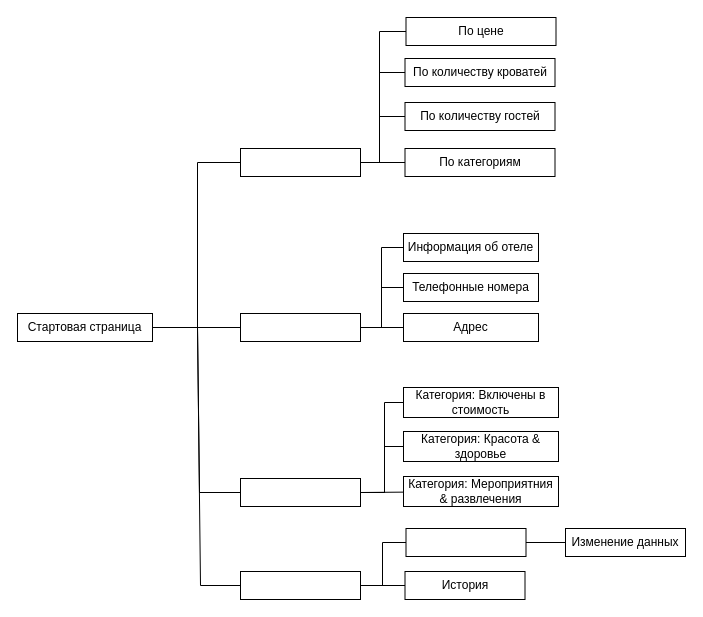
The diagram is 703 pixels wide and 617 high, and some of its shapes have lost their labels. Here are the shapes that lost their labels. From the top down, the box of each, then its label:
(240, 148, 360, 176): Раздел: Каталог
(240, 312, 360, 342): Раздел: Контакты
(240, 478, 360, 506): Раздел: Услуги
(405, 528, 526, 556): Аккаунт
(240, 570, 360, 600): Раздел: Аккаунт
